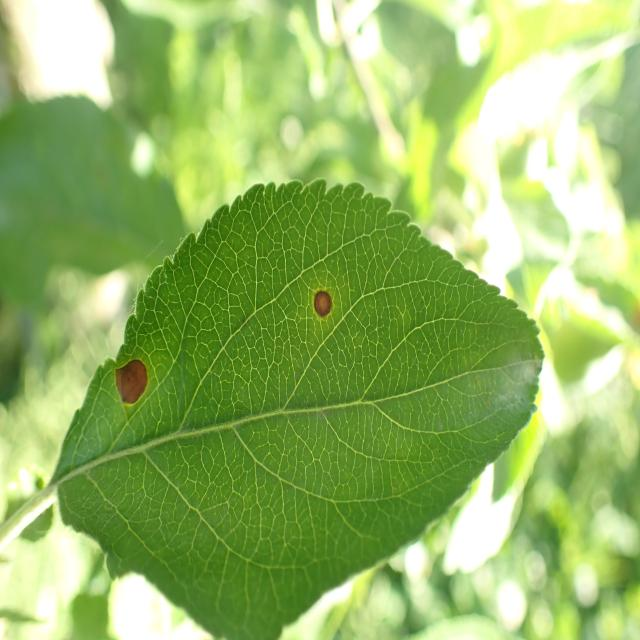Black Rot: (104, 334, 157, 422), (305, 261, 338, 340)
